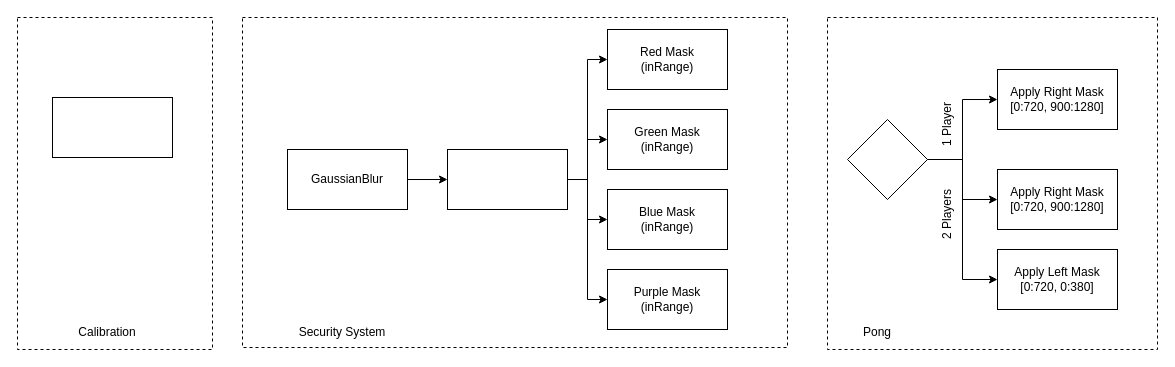
This 1175x367 diagram has some shape labels left out. Each missing label, with the box of its shape:
BGR → GRAY: (52, 96, 172, 158)
BGR → HSV: (446, 148, 568, 210)
Game Type: (846, 118, 928, 200)
